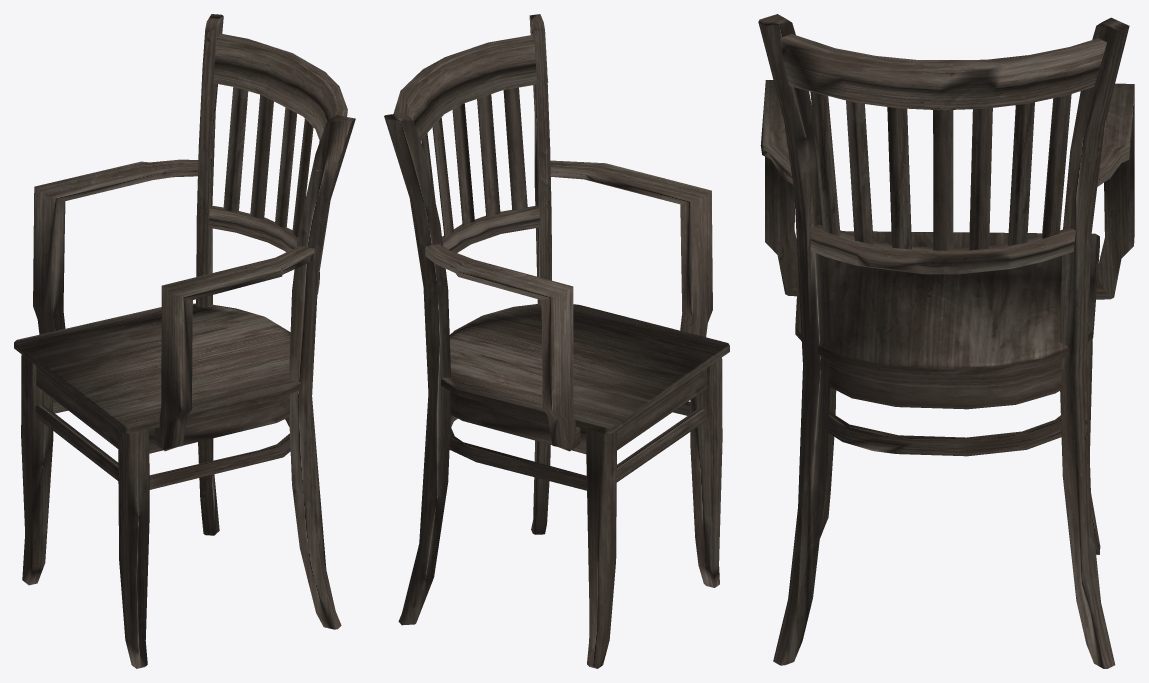
3 renders of one model, left to right at view 1: azimuth 30°, elevation 25°; view 2: azimuth 150°, elevation 25°; view 3: azimuth 270°, elevation 25°, orthographic. The views are drawn at different scales.
Visible parts, largest first — view 1: Bistro_Research_Interior_Paris_Chair_05__2434; view 2: Bistro_Research_Interior_Paris_Chair_05__2434; view 3: Bistro_Research_Interior_Paris_Chair_05__2434.
Part boxes in pixels (box(x1,y1,x2,y2)): Bistro_Research_Interior_Paris_Chair_05__2434: box(14, 14, 355, 668); Bistro_Research_Interior_Paris_Chair_05__2434: box(384, 14, 729, 668); Bistro_Research_Interior_Paris_Chair_05__2434: box(758, 14, 1134, 668).
Size of the model in its own units: 0.5433 by 1.04 by 0.548.
1 material, 1 textured.
